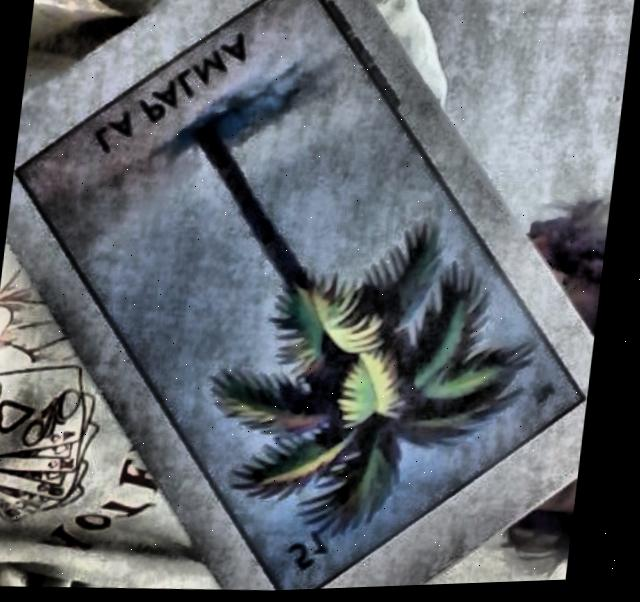La Palma: (24, 0, 590, 593)
